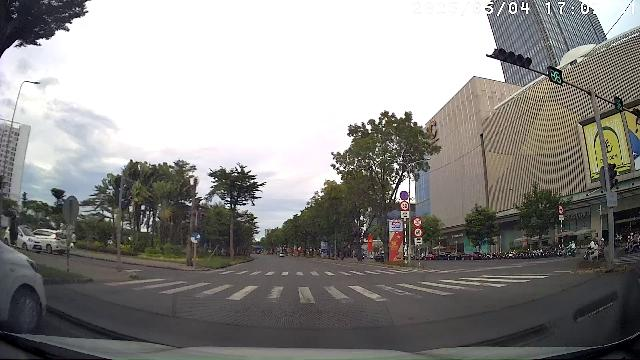127-toc-do-toi-da-60: (413, 228, 423, 236)
127-toc-do-toi-da-80: (400, 201, 410, 211)
130-cam-dung-va-do-xe: (399, 190, 408, 199)
